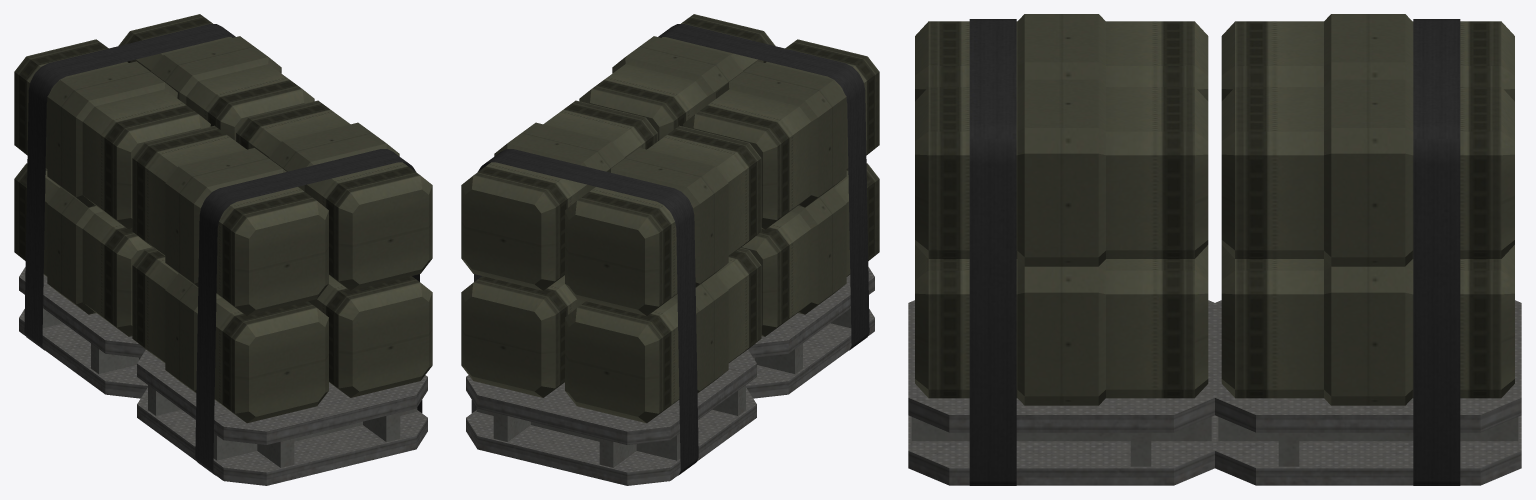
File: crate.glb
The picture shows the model from 3 angles, left to right: view 1: azimuth 30°, elevation 25°; view 2: azimuth 150°, elevation 25°; view 3: azimuth 270°, elevation 25°; orthographic projection. The views are drawn at different scales.
Parts seen in each view (by area): view 1: Object_2; view 2: Object_2; view 3: Object_2.
Boxes of the visible parts, x1,y1,x2,y2 form: Object_2: (14,14,432,485); Object_2: (461,14,879,485); Object_2: (908,14,1521,485).
Size of the model in its own units: 3.04 by 3.77 by 5.94.
Materials: 1 (1 with a texture image).
